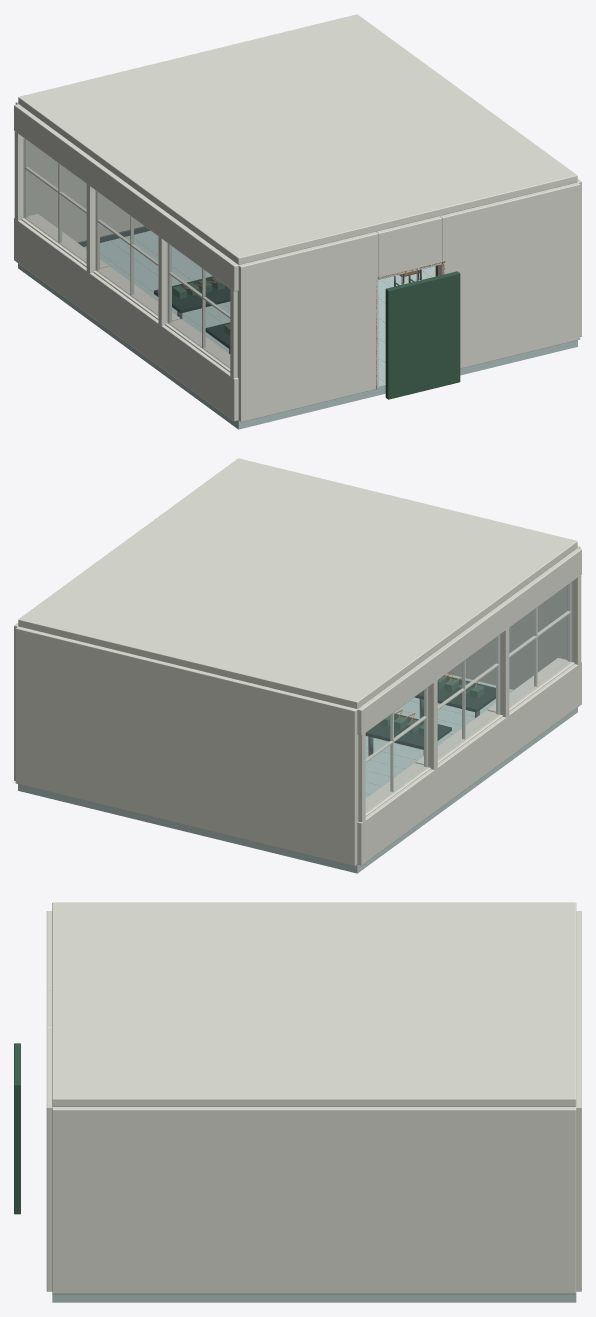
The picture shows the model from 3 angles, top to bottom: view 1: azimuth 30°, elevation 25°; view 2: azimuth 150°, elevation 25°; view 3: azimuth 270°, elevation 25°; orthographic projection. The views are drawn at different scales.
Visible parts, largest first — view 1: 2-5__architecture_and_equipment; view 2: 2-5__architecture_and_equipment; view 3: 2-5__architecture_and_equipment.
Boxes of the visible parts, x1,y1,x2,y2 form: 2-5__architecture_and_equipment: (14, 14, 581, 429); 2-5__architecture_and_equipment: (14, 458, 581, 873); 2-5__architecture_and_equipment: (14, 902, 581, 1302).
Bounding box in the file's own units: 8.2 × 3.86 × 9.76.
Materials: 15 (1 with a texture image).
